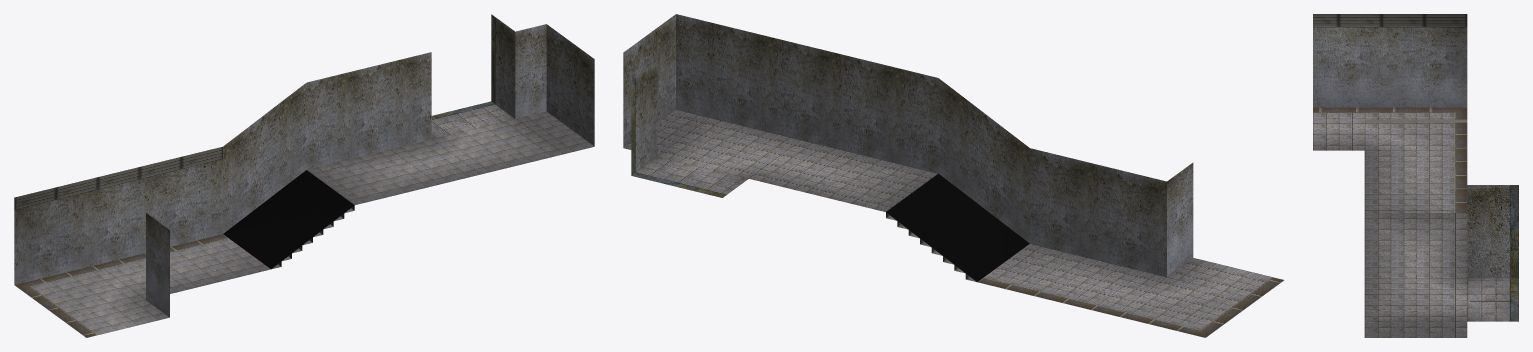
Rendered from M11Z2_SCUDHouse02_I.glb.
The picture shows the model from 3 angles, left to right: view 1: azimuth 30°, elevation 25°; view 2: azimuth 150°, elevation 25°; view 3: azimuth 270°, elevation 25°; orthographic projection. The views are drawn at different scales.
Visible parts, largest first — view 1: M11Z2_SCUDHOUSE02_I; view 2: M11Z2_SCUDHOUSE02_I; view 3: M11Z2_SCUDHOUSE02_I.
Part boxes in pixels (left/top/right/bottom): M11Z2_SCUDHOUSE02_I: left=14, top=14, right=594, bottom=337; M11Z2_SCUDHOUSE02_I: left=623, top=14, right=1284, bottom=337; M11Z2_SCUDHOUSE02_I: left=1313, top=14, right=1518, bottom=337.
Bounding box in the file's own units: 25.5 × 6 × 8.
Materials: 7 (6 with a texture image).
